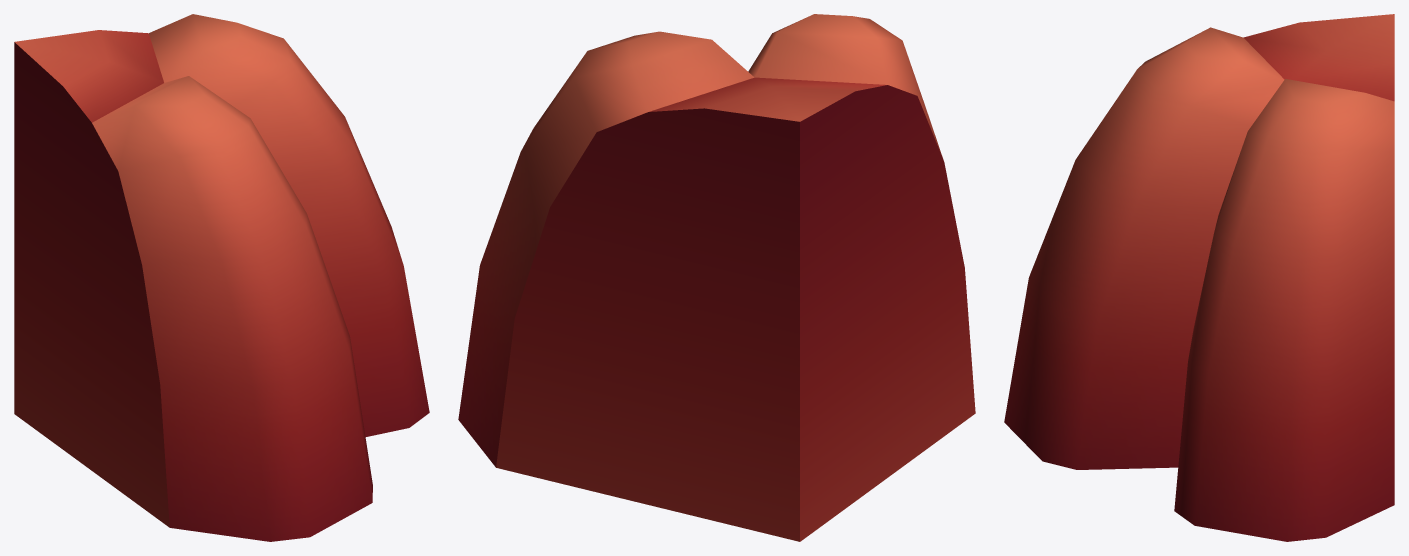
Rendered from Jelly_Slice_01.glb.
The picture shows the model from 3 angles, left to right: view 1: azimuth 30°, elevation 25°; view 2: azimuth 150°, elevation 25°; view 3: azimuth 270°, elevation 25°; orthographic projection. The views are drawn at different scales.
Parts seen in each view (by area): view 1: Jelly_Slice_01; view 2: Jelly_Slice_01; view 3: Jelly_Slice_01.
Part boxes in pixels (left/top/right/bottom): Jelly_Slice_01: left=14, top=14, right=429, bottom=541; Jelly_Slice_01: left=458, top=14, right=975, bottom=541; Jelly_Slice_01: left=1004, top=14, right=1394, bottom=541.
Size of the model in its own units: 0.3447 by 0.3534 by 0.3447.
Materials: 1 (1 with a texture image).
